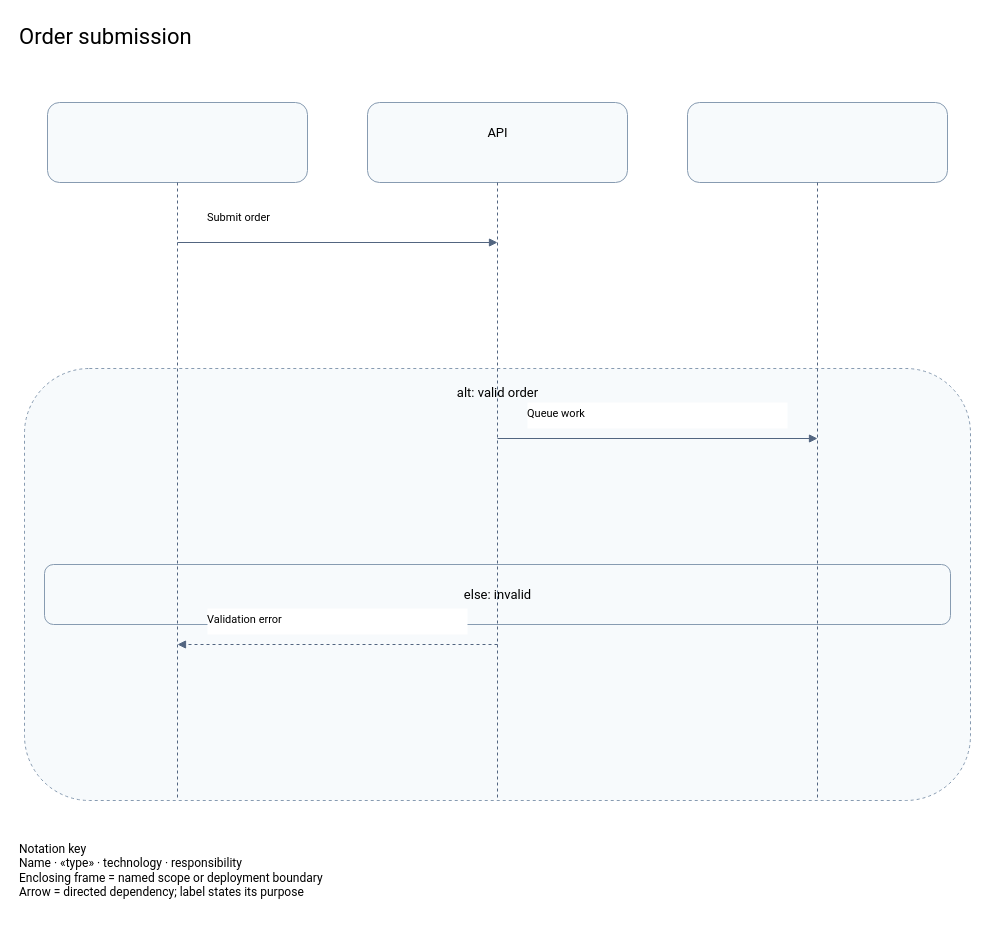
The diagram is 994 pixels wide and 952 high, and some of its shapes have lost their labels. Here are the shapes that lost their labels. From the top down, the centre of each, then its label:
(x=177, y=142): Customer
(x=817, y=142): Order Queue
